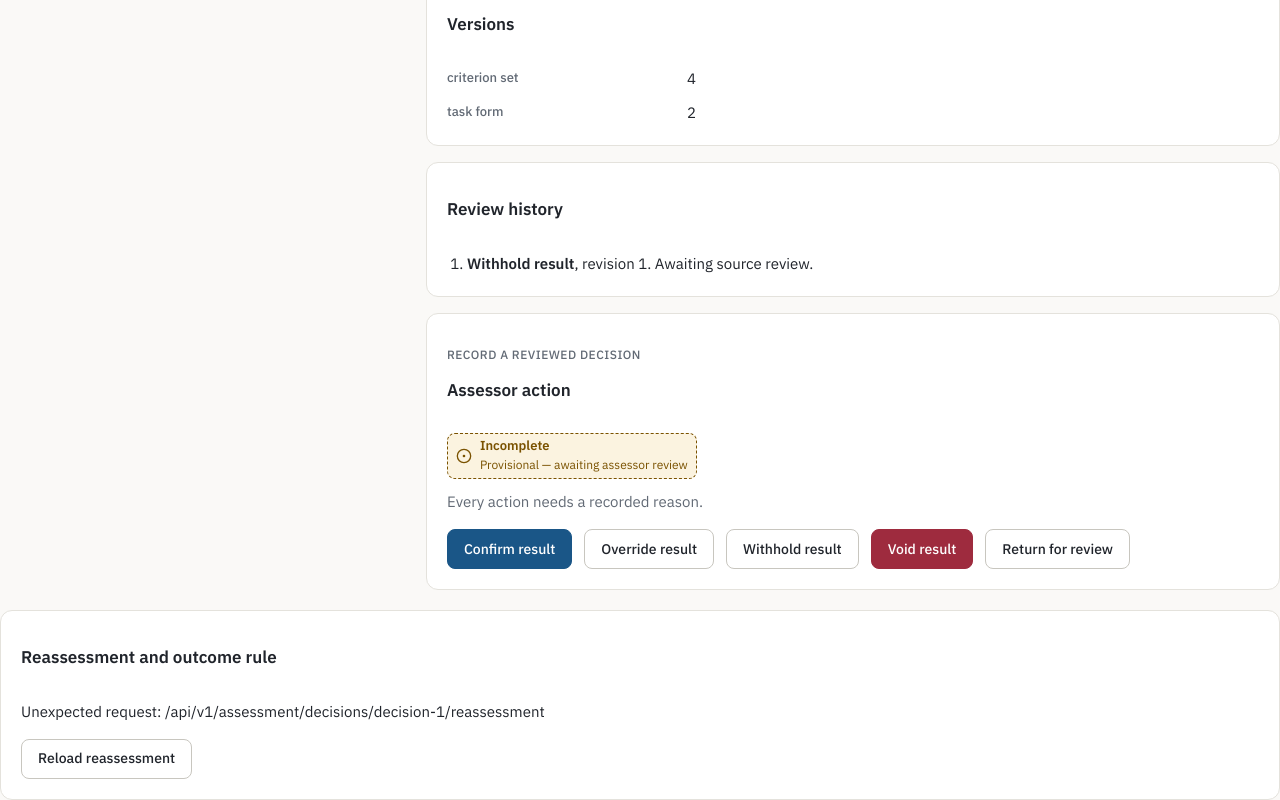
Test: Void result requires a reason before confirm is enabled
(page scrolled)
Click the button "Void result" at (922, 549), box [871,529,973,569]
(page scrolled)
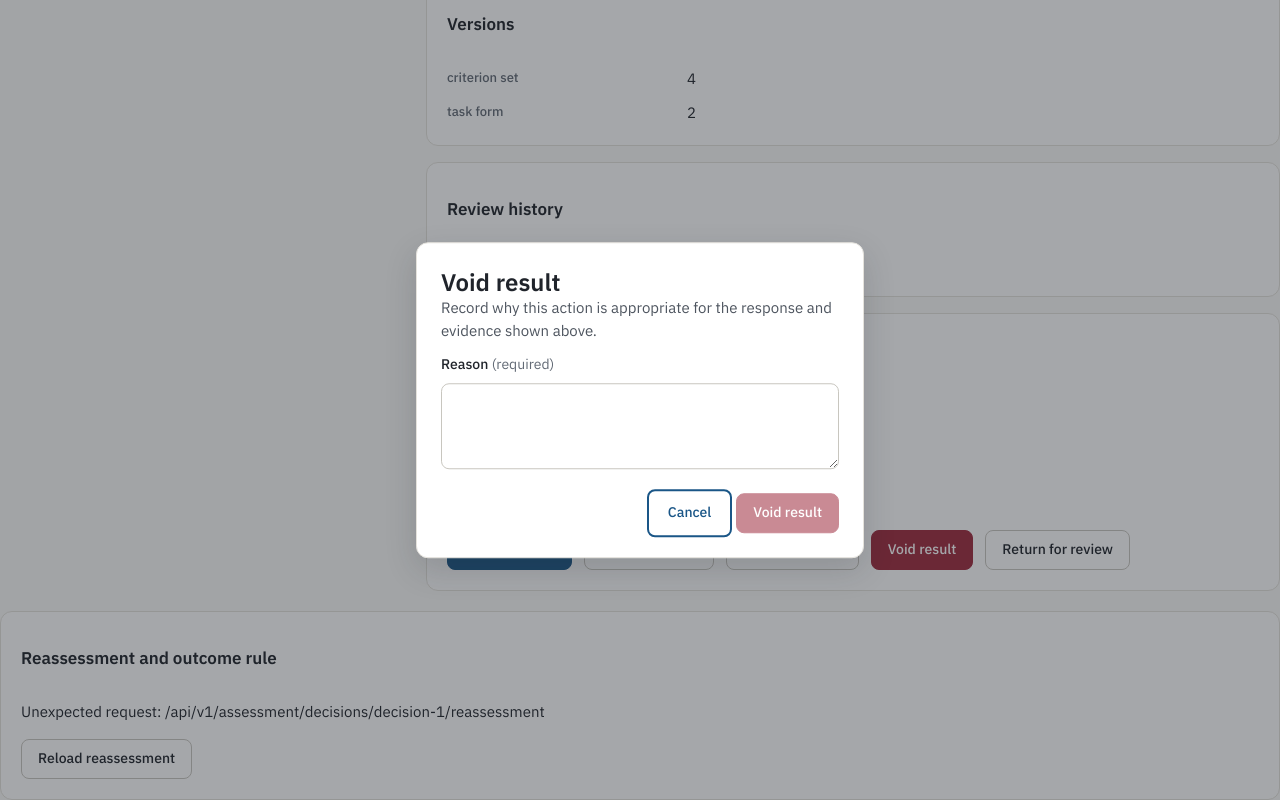
Expected: the button "Void result" is disabled, [736,493,839,533]
Type "Reviewed against evidence." into the text box labelled "Reason (required)" at (640, 426), box [441,383,839,469]
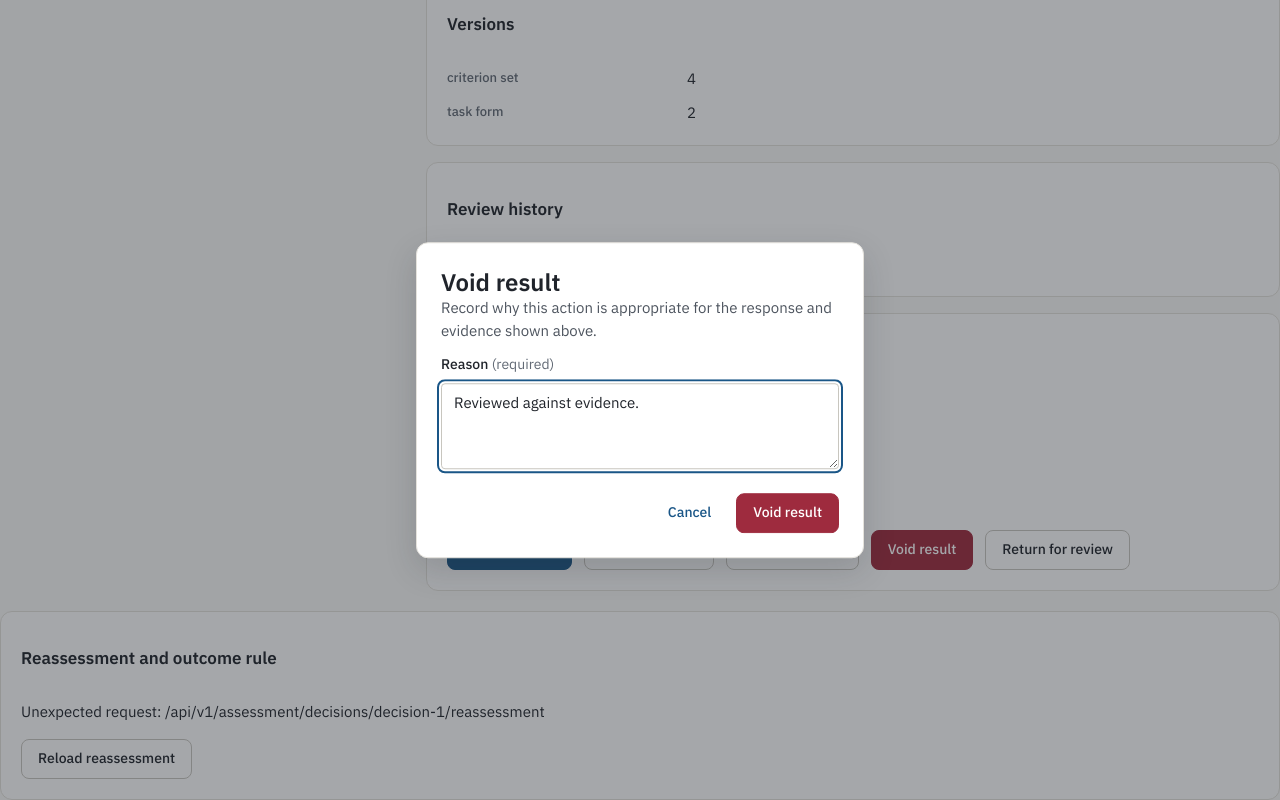
Expected: the button "Void result" is enabled, [736,493,839,533]
Clear the text box labelled "Reason (required)" at (640, 426), box [441,383,839,469]
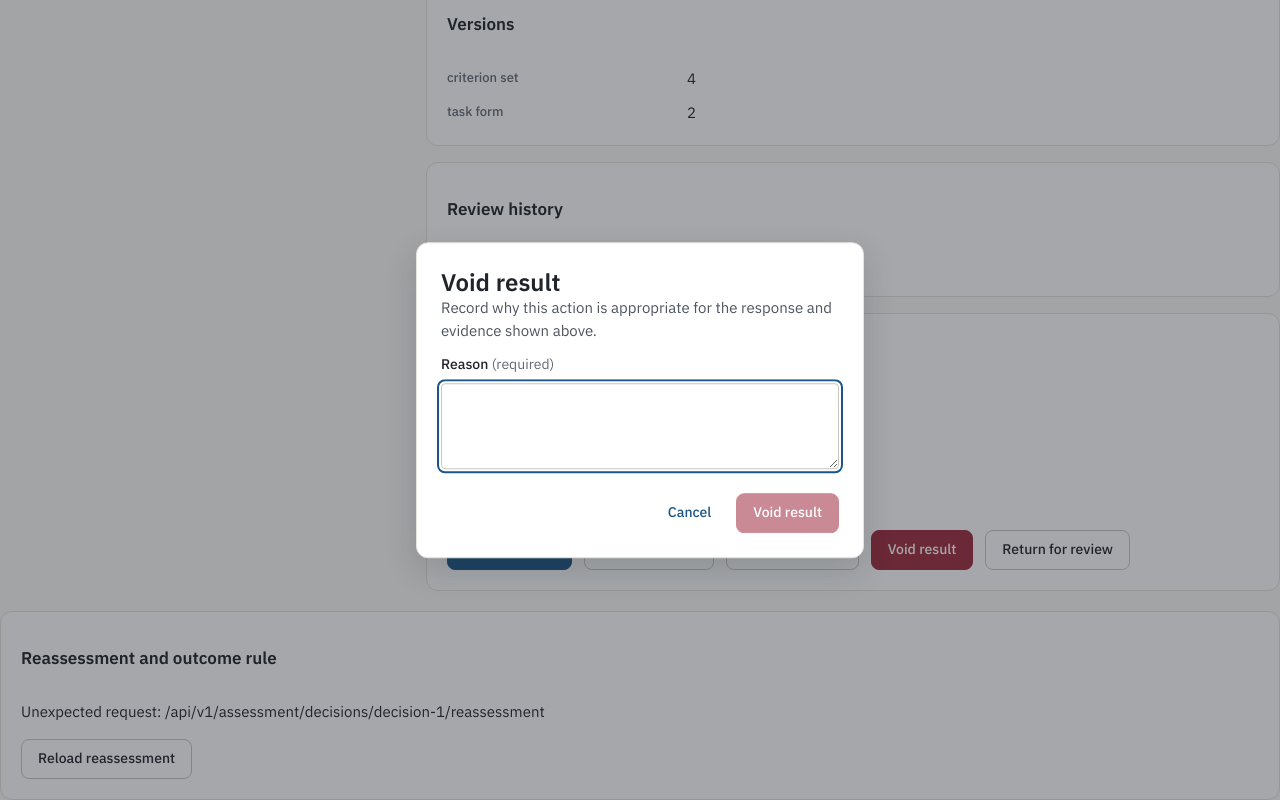
Expected: the button "Void result" is disabled, [736,493,839,533]
Click the button "Cancel" at (690, 513), box [651,493,728,533]
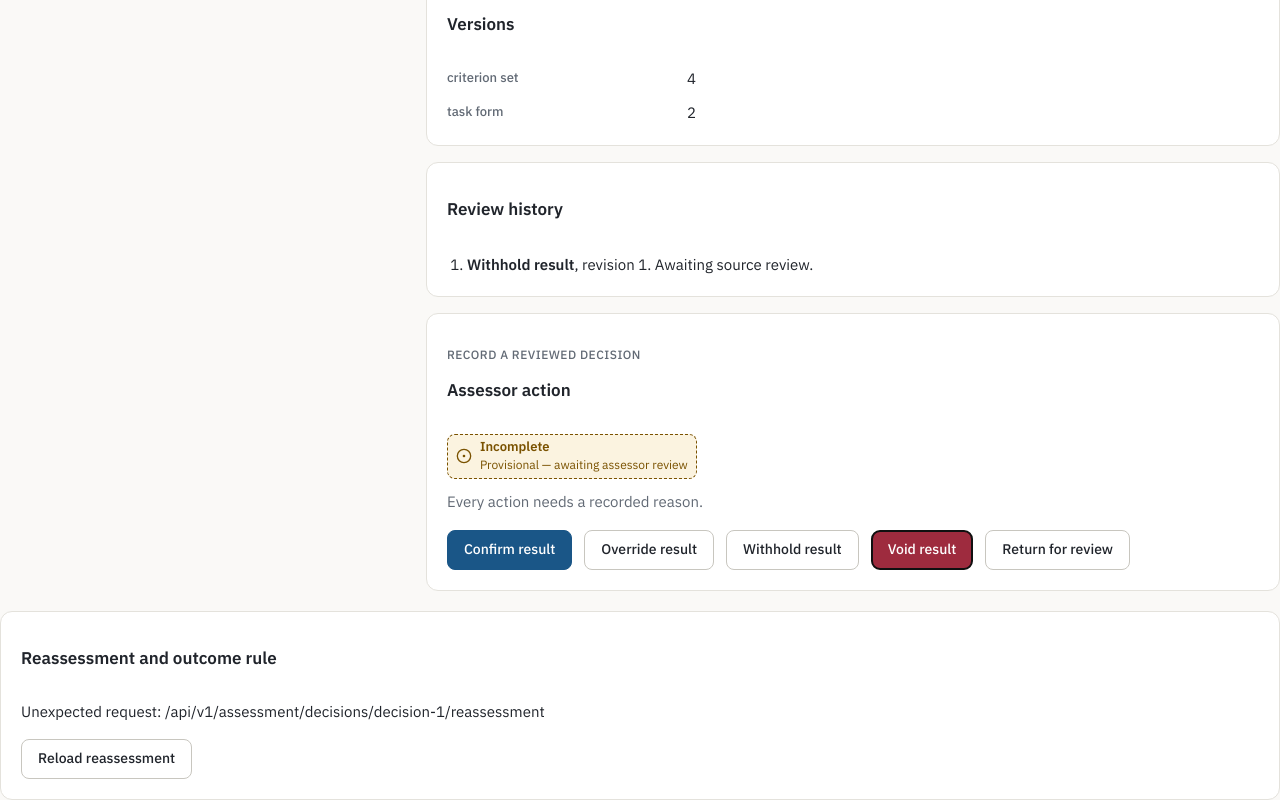
Expected: the dialog is gone
